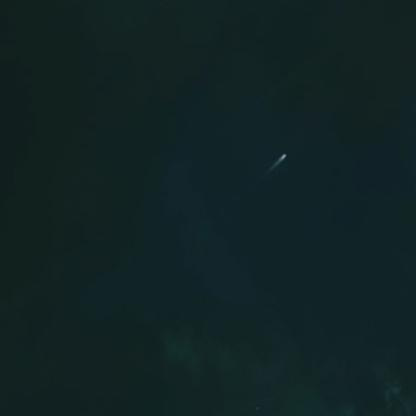ship: (271, 150, 291, 162)
